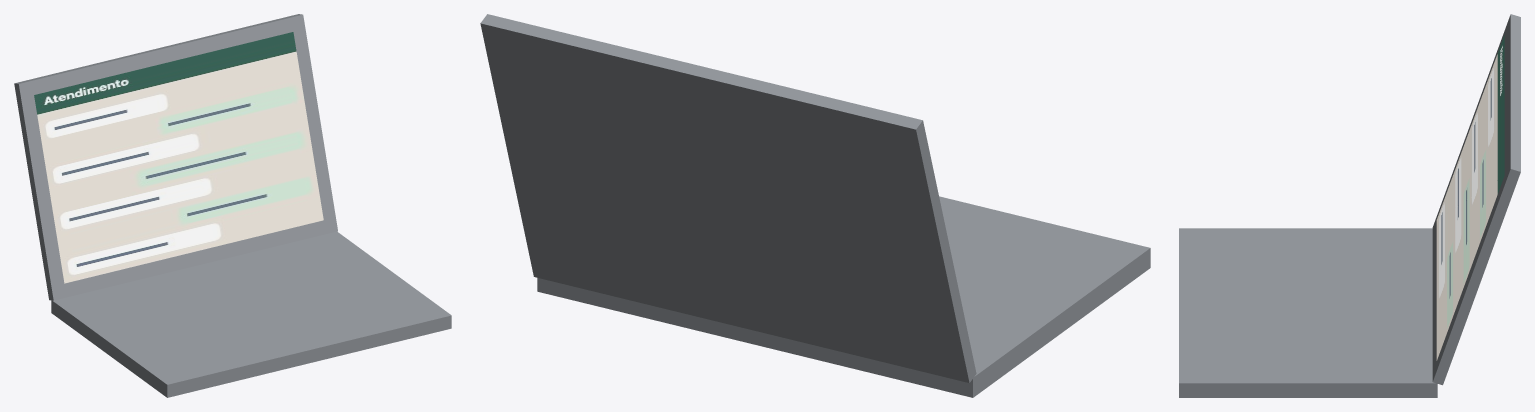
Rendered from laptop.glb.
The picture shows the model from 3 angles, left to right: view 1: azimuth 30°, elevation 25°; view 2: azimuth 150°, elevation 25°; view 3: azimuth 270°, elevation 25°; orthographic projection. The views are drawn at different scales.
Visible parts, largest first — view 1: laptop_malha; view 2: laptop_malha; view 3: laptop_malha.
Boxes of the visible parts, left/top/right/bottom form: laptop_malha: left=14, top=14, right=451, bottom=397; laptop_malha: left=480, top=14, right=1150, bottom=397; laptop_malha: left=1179, top=14, right=1520, bottom=397.
Bounding box in the file's own units: 0.34 × 0.2344 × 0.3171.
2 materials, 1 textured.
